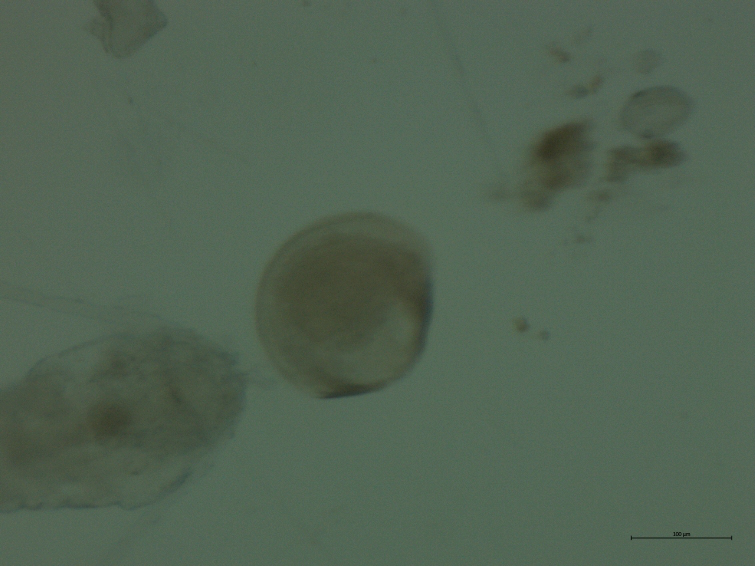oyster: (240, 203, 447, 411)
